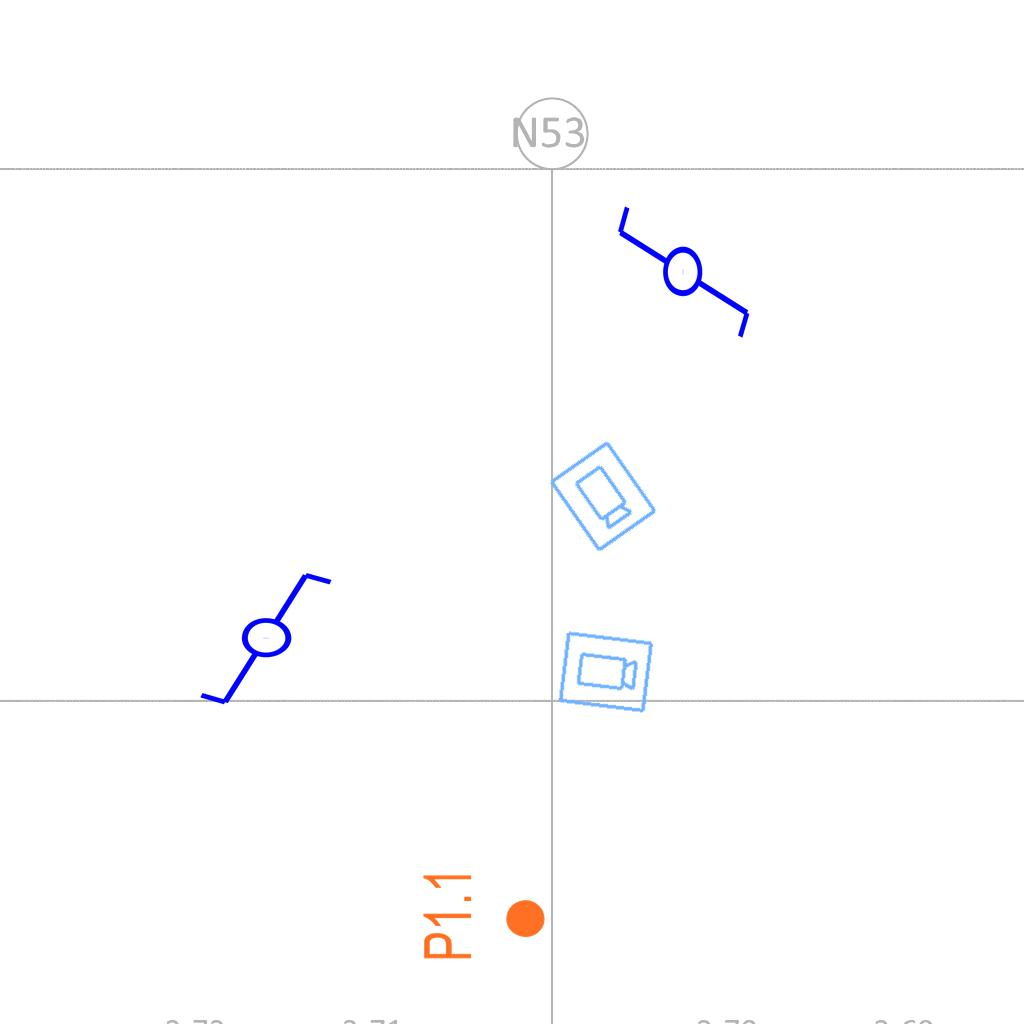Downlight_LED_Einbauleuchten_Flur: (420, 869, 548, 962)
KFO_Kamera_mit_Festobjektiv: (544, 437, 661, 556), (555, 628, 656, 717)
Wechselschalter: (613, 185, 757, 342), (196, 568, 353, 712)
